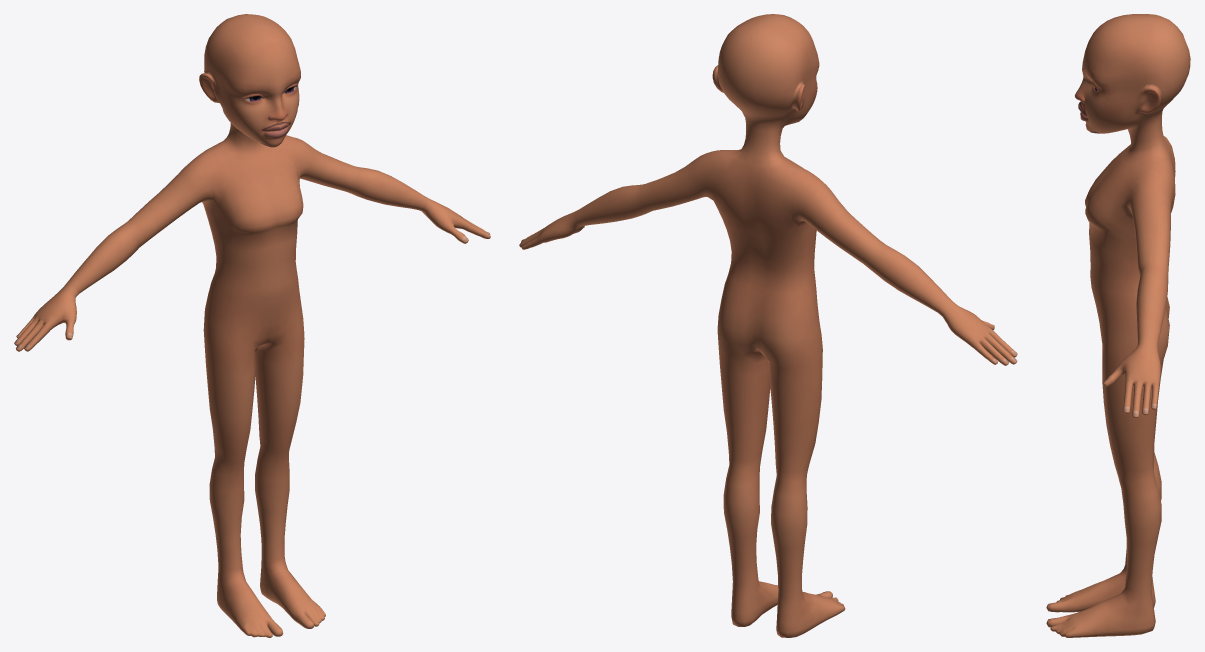
File: frame_0051.glb
The picture shows the model from 3 angles, left to right: view 1: azimuth 30°, elevation 25°; view 2: azimuth 150°, elevation 25°; view 3: azimuth 270°, elevation 25°; orthographic projection. The views are drawn at different scales.
Parts seen in each view (by area): view 1: frame_0051_head_geo; view 2: frame_0051_head_geo; view 3: frame_0051_head_geo.
Boxes of the visible parts, x1=… form: frame_0051_head_geo: x1=14, y1=14, x2=490, y2=637; frame_0051_head_geo: x1=519, y1=14, x2=1017, y2=637; frame_0051_head_geo: x1=1046, y1=14, x2=1190, y2=637.
Size of the model in its own units: 1.28 by 1.5 by 0.3253.
Materials: 3 (3 with a texture image).
